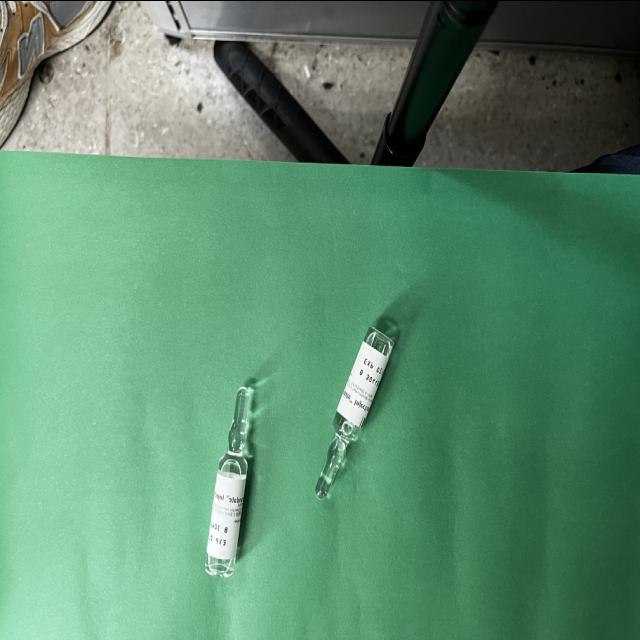Ampoules: (316, 326, 394, 498), (206, 385, 254, 576)
